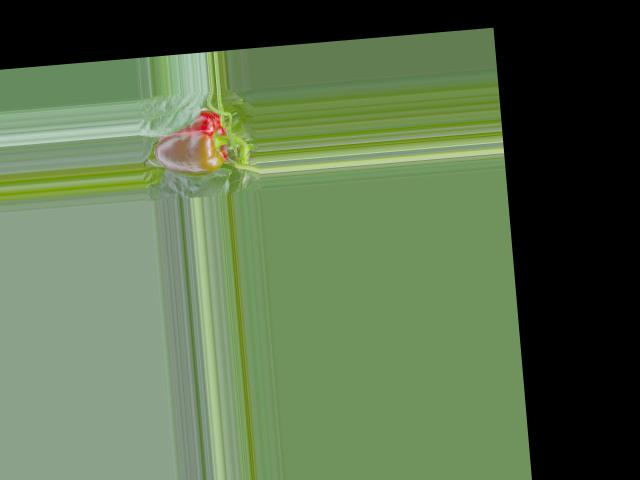bell_pepper: (146, 105, 239, 186)
